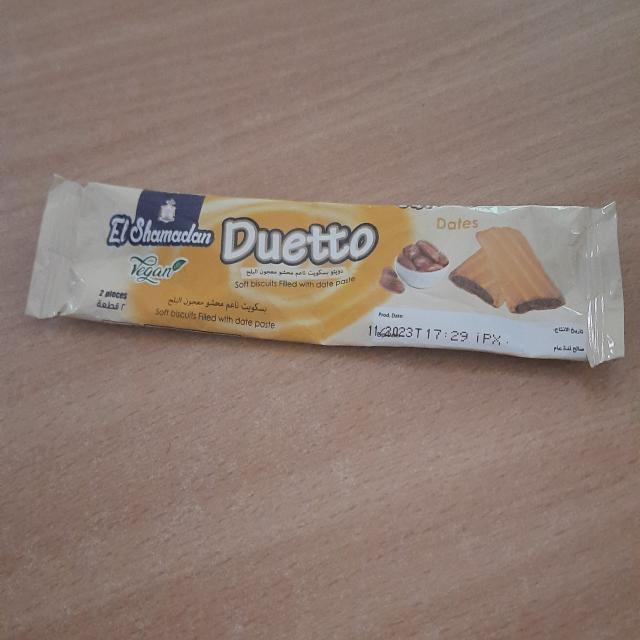trash: (20, 100, 640, 404)
